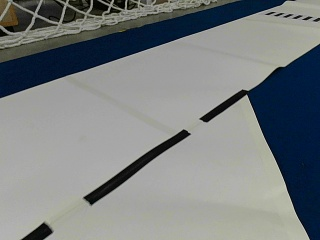crosswalk: (265, 11, 318, 21)
